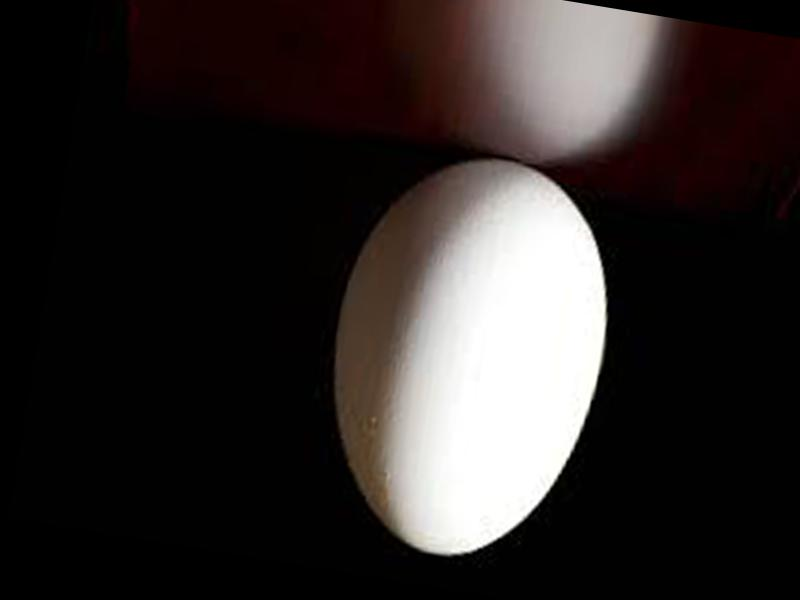Eggs: (307, 137, 630, 574)
